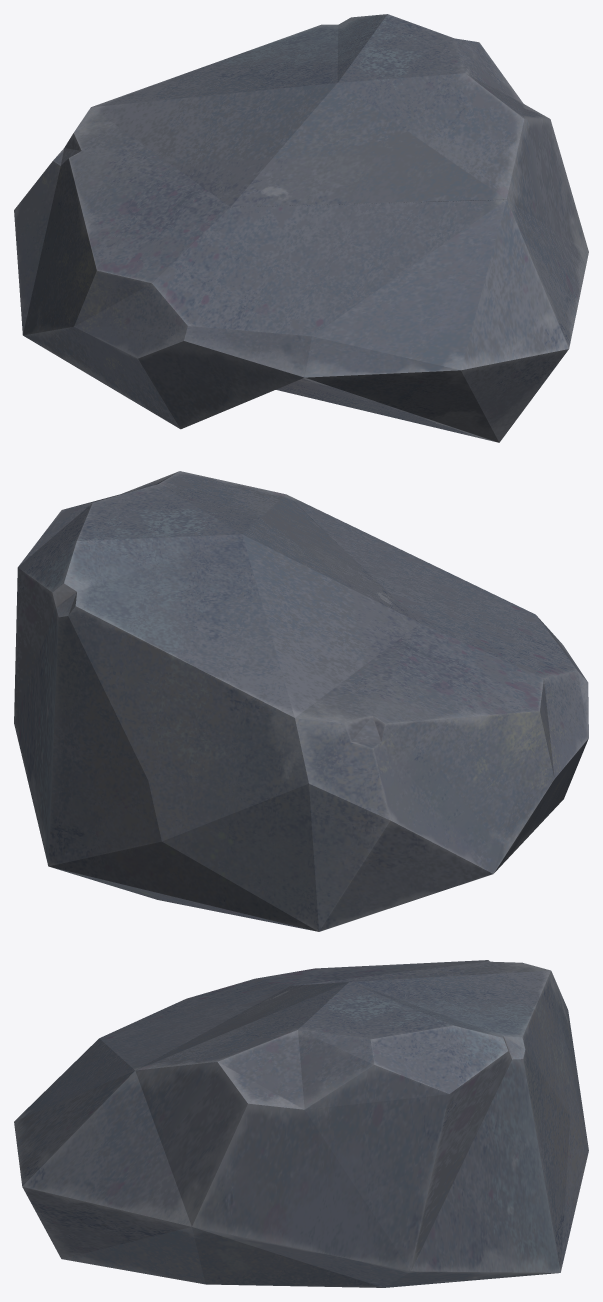
Rendered from stylized_rock_64.fbx.
The picture shows the model from 3 angles, top to bottom: view 1: azimuth 30°, elevation 25°; view 2: azimuth 150°, elevation 25°; view 3: azimuth 270°, elevation 25°; orthographic projection. The views are drawn at different scales.
Parts seen in each view (by area): view 1: stylized_rock_64; view 2: stylized_rock_64; view 3: stylized_rock_64.
Part boxes in pixels (bbox=[...]): stylized_rock_64: bbox=[14, 14, 588, 442]; stylized_rock_64: bbox=[14, 471, 588, 931]; stylized_rock_64: bbox=[14, 960, 588, 1287].
Bounding box in the file's own units: 176 × 102 × 188.
